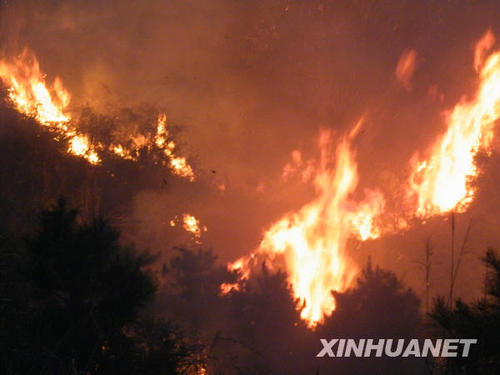fire: (276, 209, 357, 321), (425, 107, 477, 211), (5, 61, 73, 124)
smoke: (89, 7, 428, 119), (188, 121, 318, 203), (386, 224, 489, 289)
